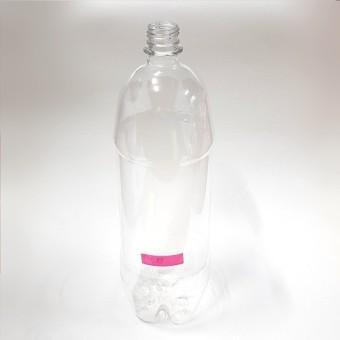BIODEGRADABLE: (98, 14, 222, 333)
